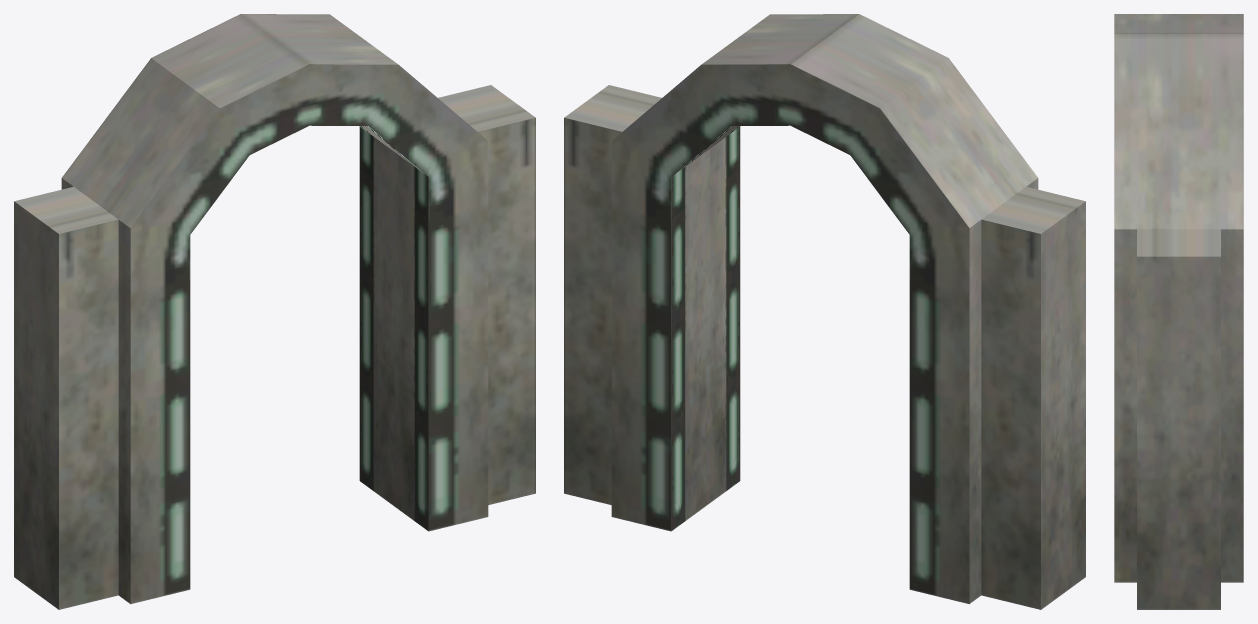
The model's file is thm_corl_imprv_gate_sm_s04_l2.fbx.
3 views of the same model, side by side, from view 1: azimuth 30°, elevation 25°; view 2: azimuth 150°, elevation 25°; view 3: azimuth 270°, elevation 25° (orthographic). The views are drawn at different scales.
Visible parts, largest first — view 1: mesh_node; view 2: mesh_node; view 3: mesh_node.
Boxes of the visible parts, x1,y1,x2,y2 form: mesh_node: (14, 14, 535, 609); mesh_node: (564, 14, 1085, 609); mesh_node: (1114, 14, 1243, 609).
Size of the model in its own units: 8 by 7.95 by 2.
